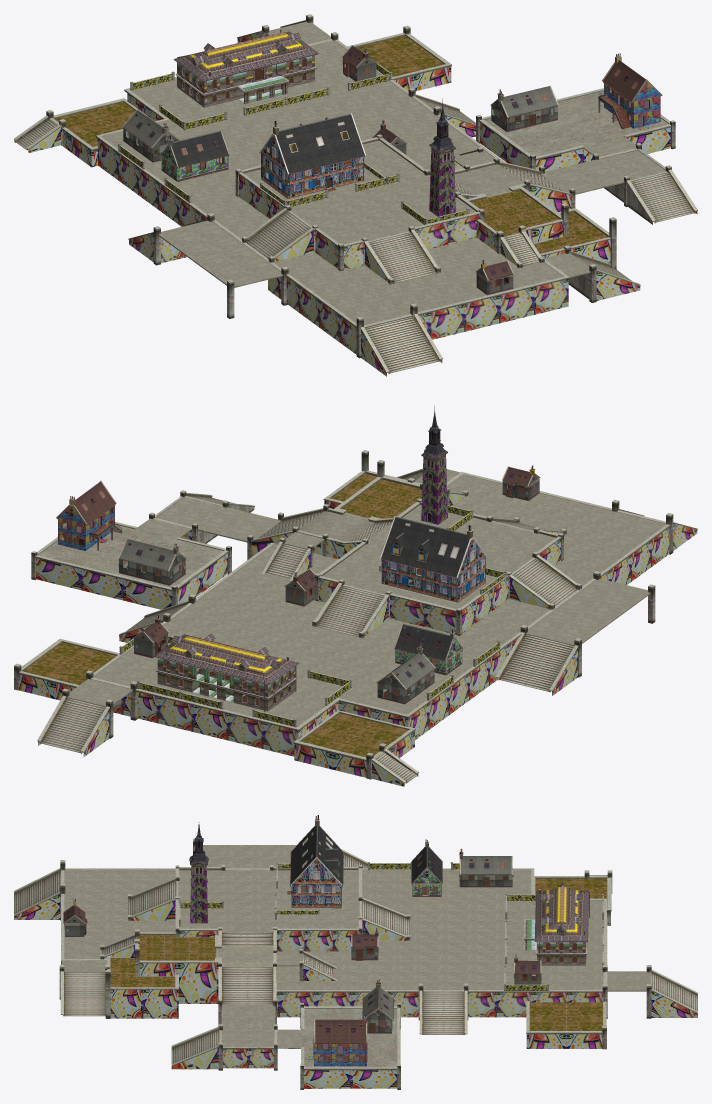
The model's file is grafitti-city.fbx.
3 views of the same model, one above another, from view 1: azimuth 30°, elevation 25°; view 2: azimuth 150°, elevation 25°; view 3: azimuth 270°, elevation 25° (orthographic). The views are drawn at different scales.
Parts seen in each view (by area): view 1: Object_4, Object_14, Object_3, Object_6, Object_2, Object_20, Object_17, Object_21, Object_13, Object_11, Object_16, Object_10 (+6 smaller); view 2: Object_4, Object_14, Object_3, Object_6, Object_2, Object_20, Object_13, Object_21, Object_17, Object_11, Object_16, Object_19 (+6 smaller); view 3: Object_4, Object_14, Object_3, Object_6, Object_2, Object_20, Object_21, Object_17, Object_13, Object_11, Object_10, Object_16 (+5 smaller).
Boxes of the visible parts, bbox=[...] form: Object_4: bbox=[14, 14, 697, 373]; Object_14: bbox=[14, 32, 697, 376]; Object_3: bbox=[123, 46, 645, 279]; Object_6: bbox=[122, 45, 662, 295]; Object_2: bbox=[239, 162, 563, 281]; Object_20: bbox=[173, 30, 318, 102]; Object_17: bbox=[119, 64, 467, 224]; Object_21: bbox=[261, 135, 364, 198]; Object_13: bbox=[175, 29, 317, 107]; Object_11: bbox=[123, 95, 557, 161]; Object_16: bbox=[429, 147, 455, 216]; Object_10: bbox=[604, 56, 660, 130]; Object_4: bbox=[14, 450, 697, 783]; Object_14: bbox=[19, 500, 697, 786]; Object_3: bbox=[75, 467, 531, 688]; Object_6: bbox=[56, 465, 540, 704]; Object_2: bbox=[297, 493, 563, 635]; Object_20: bbox=[154, 633, 299, 701]; Object_13: bbox=[155, 640, 297, 711]; Object_21: bbox=[381, 539, 484, 601]; Object_17: bbox=[122, 506, 505, 726]; Object_11: bbox=[119, 548, 434, 703]; Object_16: bbox=[421, 454, 447, 524]; Object_19: bbox=[134, 474, 539, 656]; Object_4: bbox=[14, 838, 697, 1089]; Object_14: bbox=[14, 894, 697, 1088]; Object_3: bbox=[64, 825, 540, 1043]; Object_6: bbox=[63, 815, 541, 1066]; Object_2: bbox=[104, 900, 406, 980]; Object_20: bbox=[525, 883, 589, 949]; Object_21: bbox=[292, 858, 340, 907]; Object_17: bbox=[180, 863, 546, 990]; Object_13: bbox=[524, 889, 589, 965]; Object_11: bbox=[367, 855, 512, 1032]; Object_10: bbox=[307, 1016, 366, 1066]; Object_16: bbox=[190, 864, 207, 923].
Size of the model in its own units: 11901 by 3760 by 15502.
Materials: 24 (24 with a texture image).
